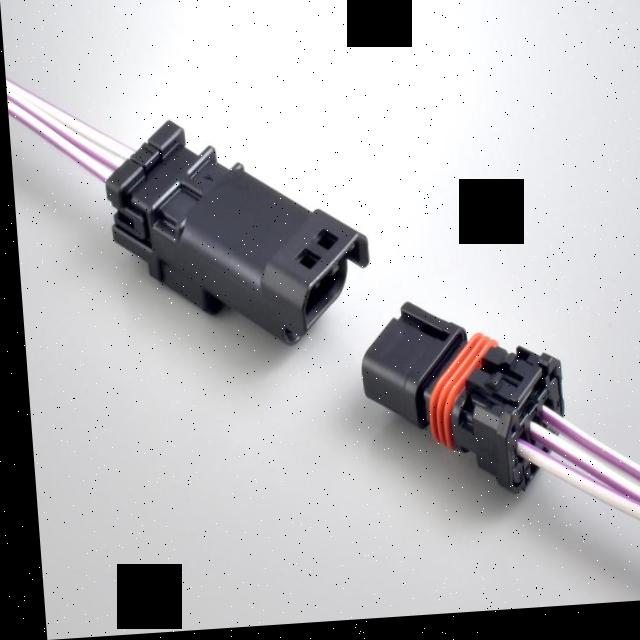connector: (67, 109, 379, 378), (335, 277, 588, 508)
